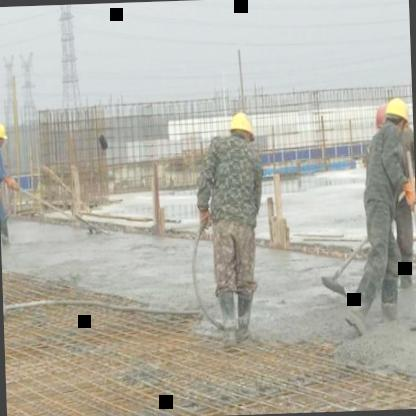helmet: (226, 108, 259, 153), (379, 96, 410, 140), (0, 119, 7, 148)
